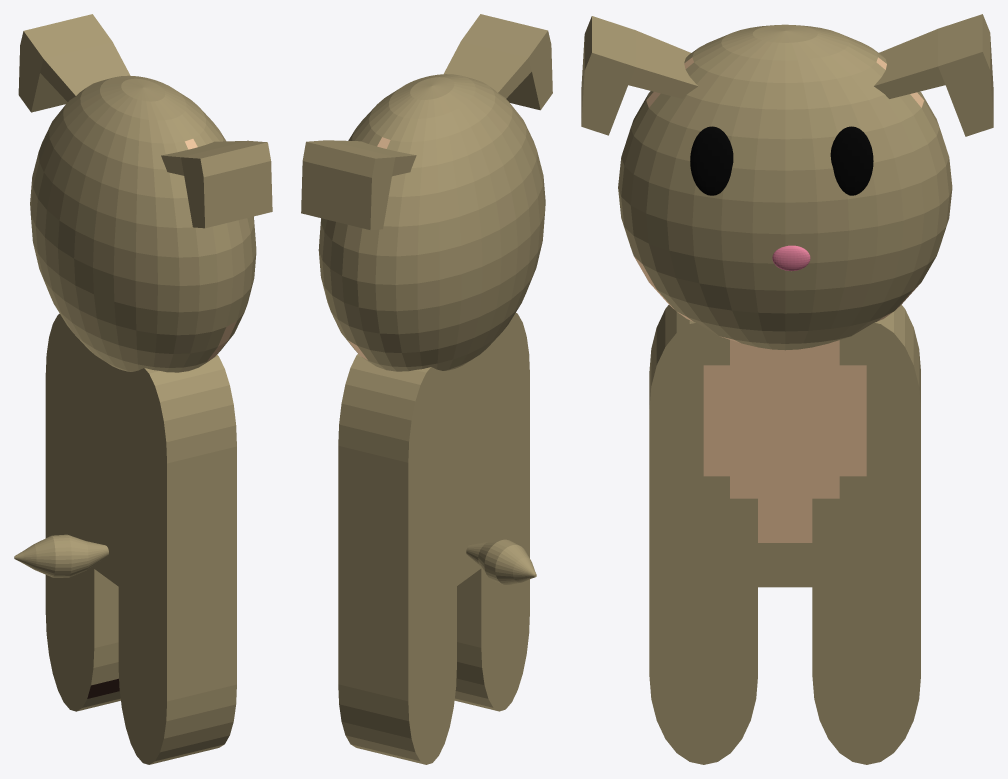
The model's file is perro.gltf.
The picture shows the model from 3 angles, left to right: view 1: azimuth 30°, elevation 25°; view 2: azimuth 150°, elevation 25°; view 3: azimuth 270°, elevation 25°; orthographic projection. The views are drawn at different scales.
Visible parts, largest first — view 1: Cube, Sphere, Cube.002, Cube.001, Cylinder; view 2: Cube, Sphere, Cube.002, Cube.001, Cylinder; view 3: Cube, Sphere, Cube.002, Cube.001, Sphere.001, Sphere.002, Sphere.003.
Part boxes in pixels (box(x1,y1,x2,y2)): Cube: box(45, 313, 236, 764); Sphere: box(30, 75, 256, 372); Cube.002: box(18, 14, 130, 112); Cube.001: box(161, 140, 272, 228); Cylinder: box(14, 534, 108, 577); Cube: box(338, 313, 529, 764); Sphere: box(318, 74, 545, 371); Cube.002: box(301, 140, 416, 230); Cube.001: box(444, 14, 552, 110); Cylinder: box(466, 539, 536, 584); Cube: box(649, 304, 920, 764); Sphere: box(618, 24, 952, 350); Cube.002: box(874, 14, 993, 136); Cube.001: box(581, 16, 698, 135); Sphere.001: box(690, 126, 733, 195); Sphere.002: box(830, 126, 873, 195); Sphere.003: box(772, 245, 810, 271).
Bounding box in the file's own units: 1.36 × 4.07 × 2.12.
